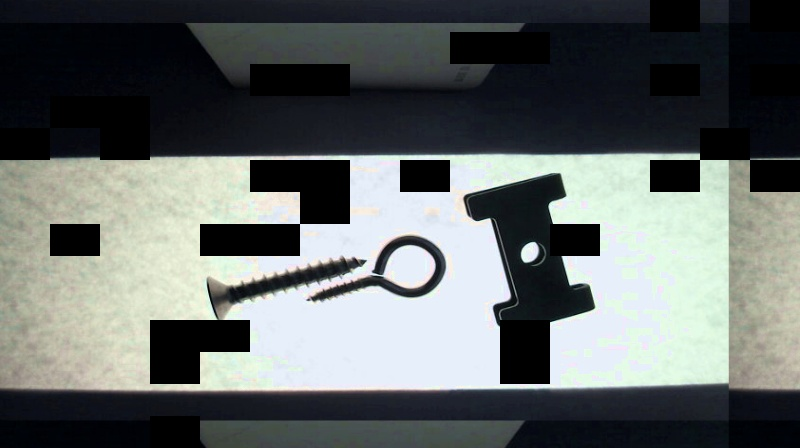O001: (302, 233, 448, 302)
O002: (463, 173, 597, 334)
S001: (205, 257, 368, 322)
